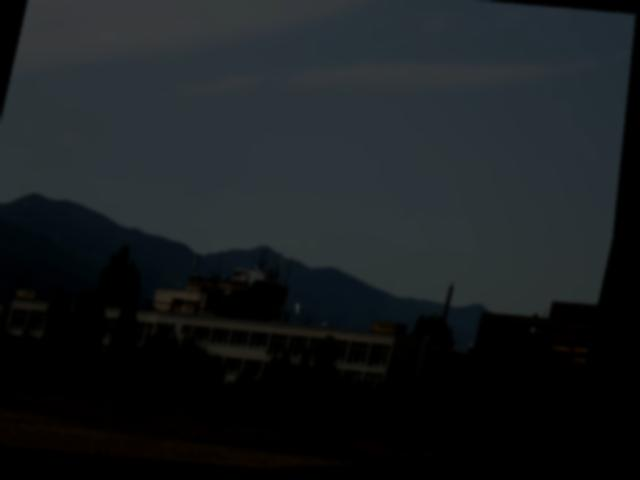plane: (299, 304, 312, 320)
